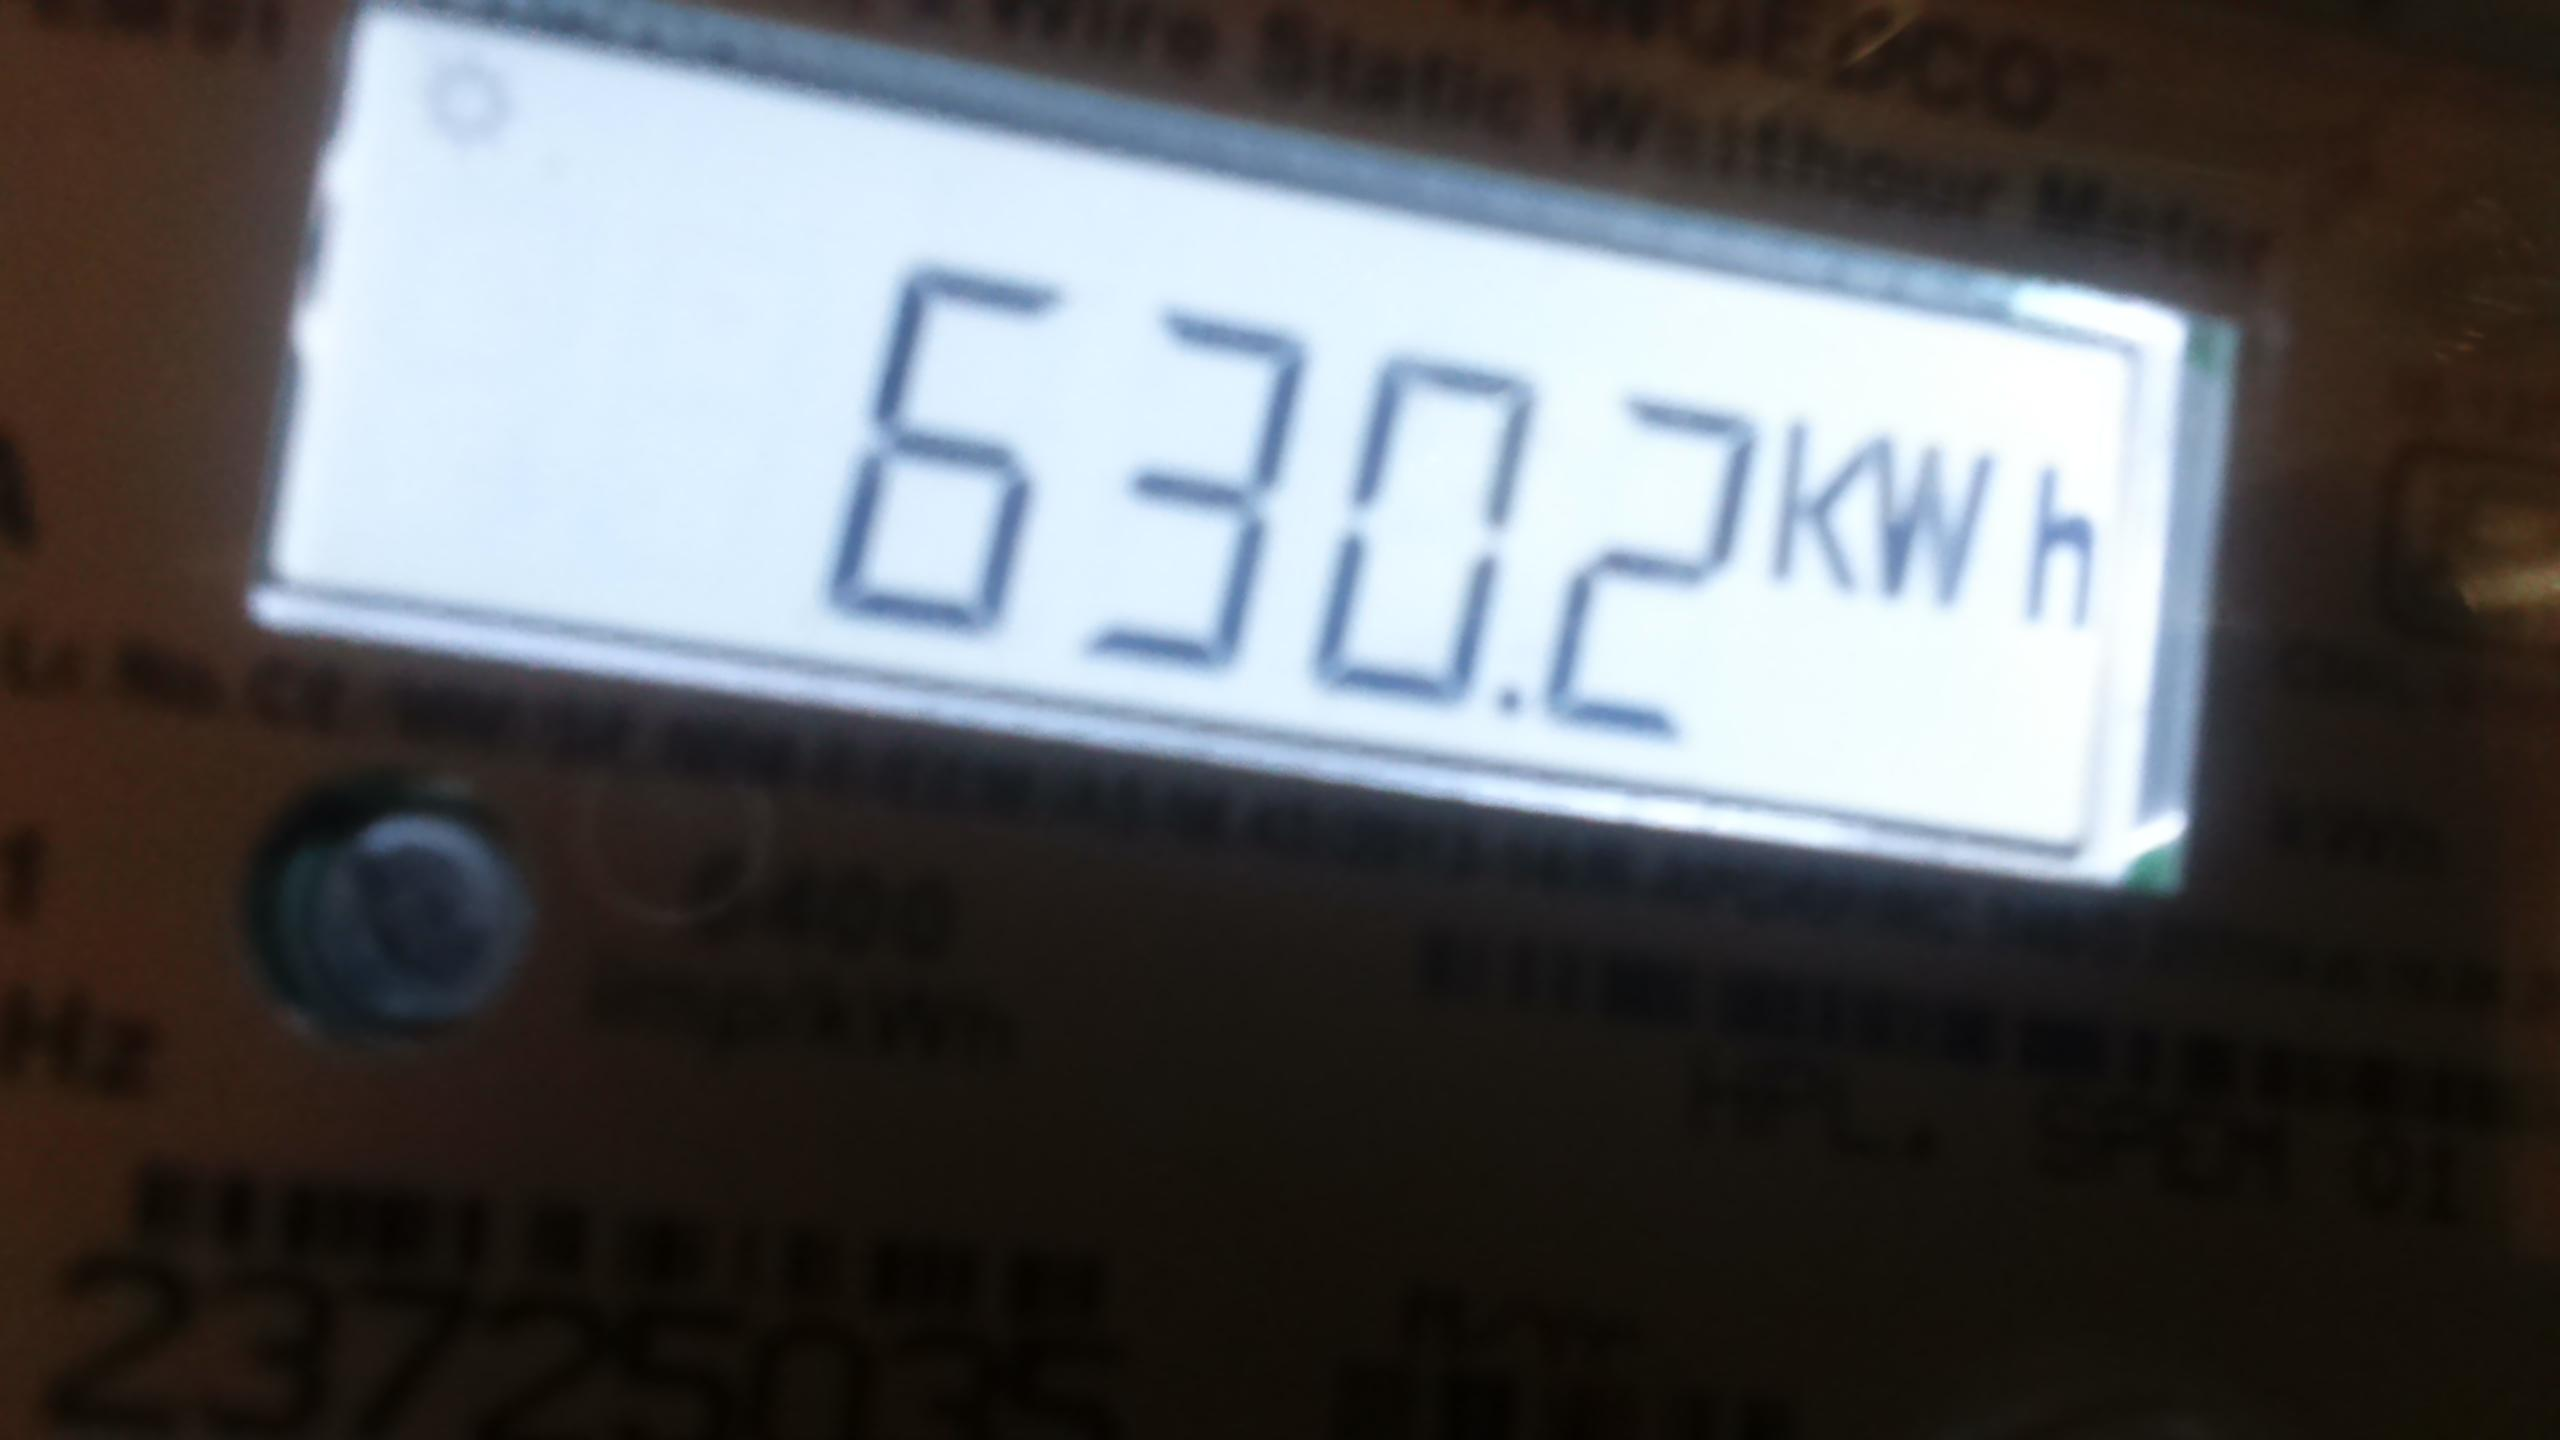.: (1764, 420, 2108, 668)
0: (1454, 673, 1542, 763)
1: (1298, 329, 1542, 696)
3: (1544, 364, 1822, 767)
4: (1067, 264, 1352, 666)
7: (791, 193, 1132, 633)
